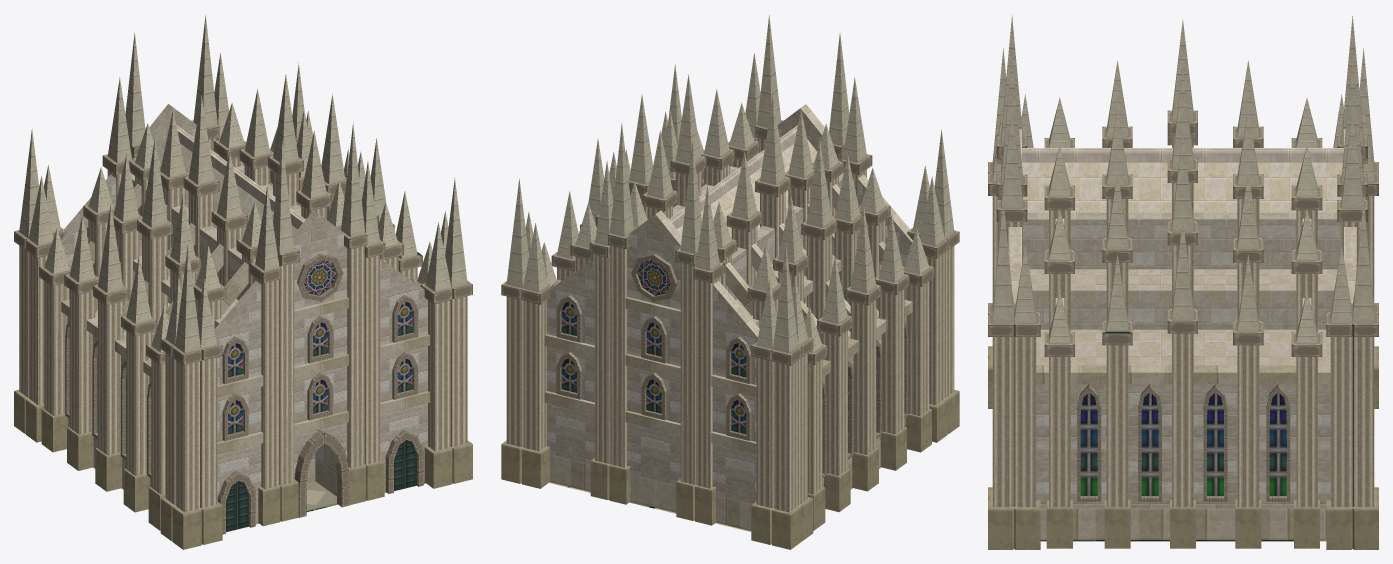
File: Cathedral.fbx
3 views of the same model, side by side, from view 1: azimuth 30°, elevation 25°; view 2: azimuth 150°, elevation 25°; view 3: azimuth 270°, elevation 25° (orthographic). The views are drawn at different scales.
Parts seen in each view (by area): view 1: obj; view 2: obj; view 3: obj.
Boxes of the visible parts, box(x1,y1,x2,y2) form: obj: box(14, 15, 472, 549); obj: box(501, 15, 959, 549); obj: box(988, 15, 1378, 549).
Bounding box in the file's own units: 7.09 × 8.84 × 7.18.
